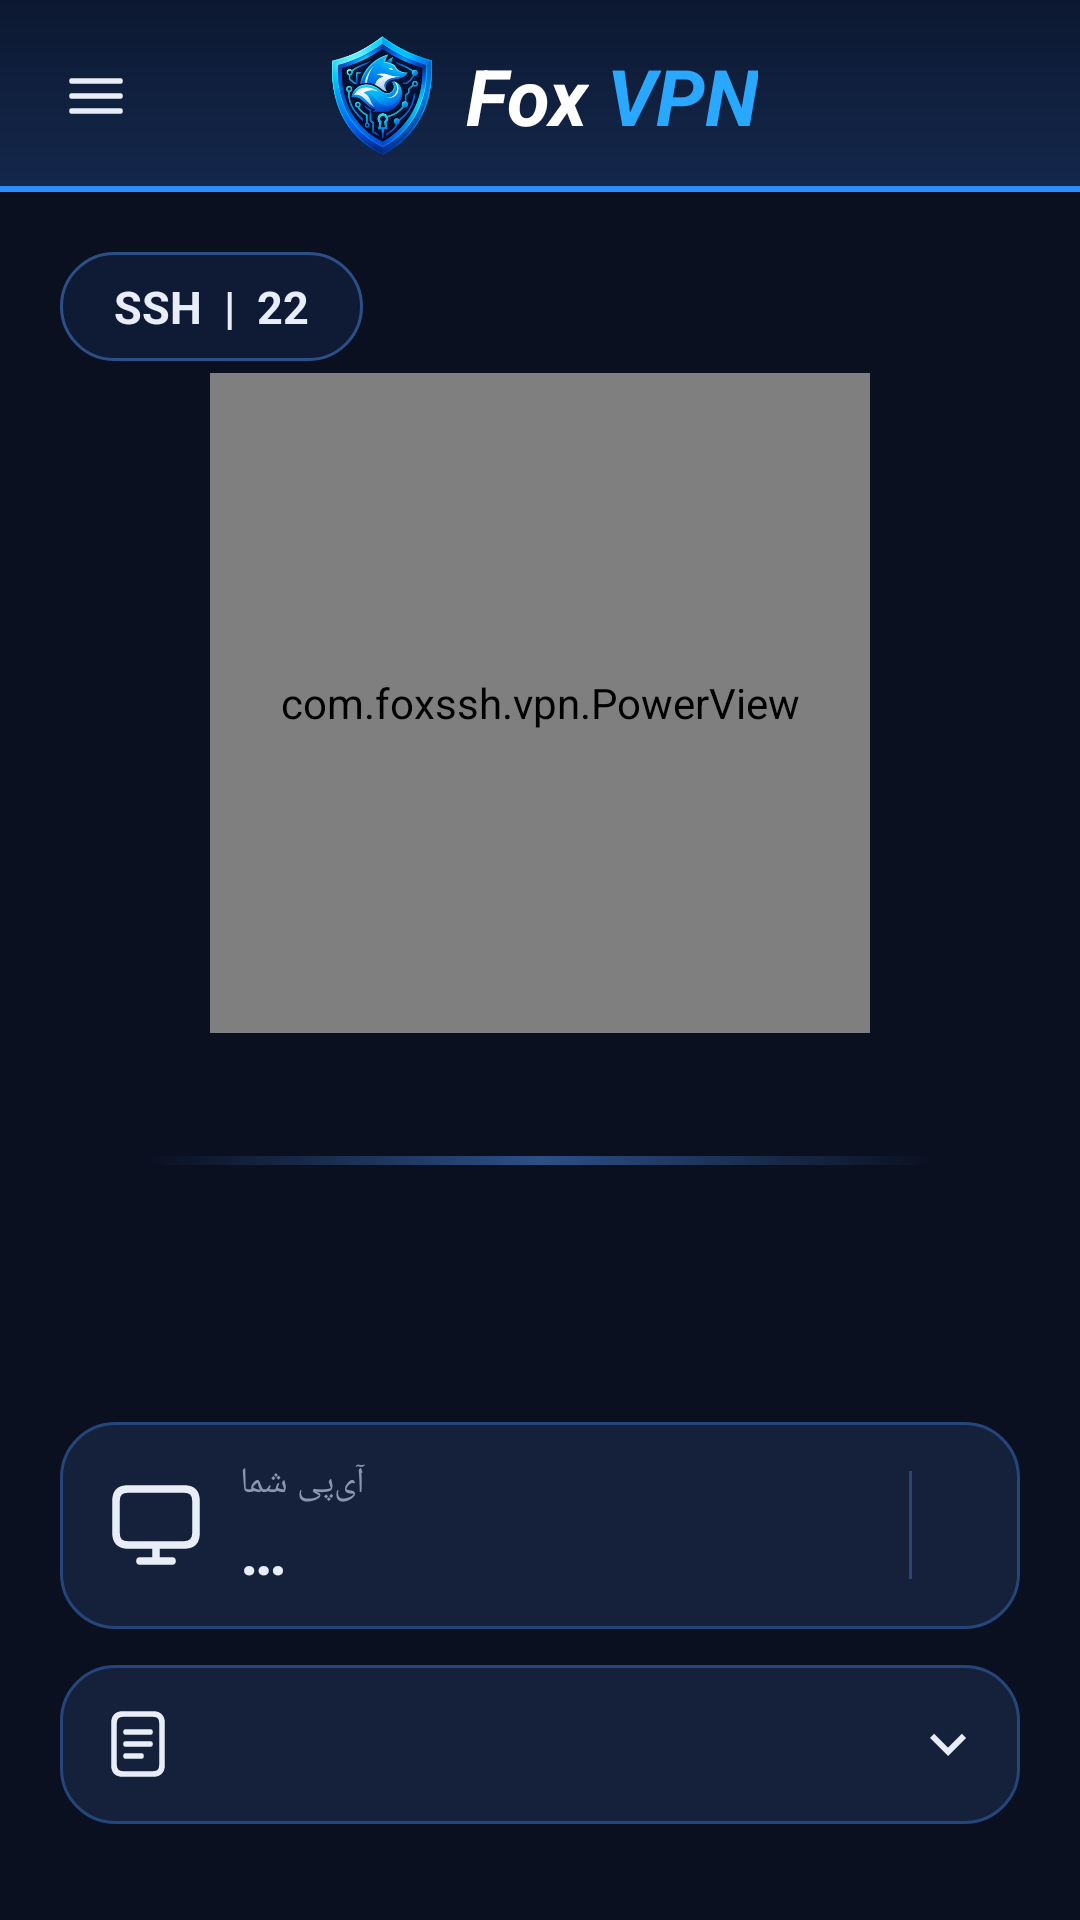

Where icons sit on this 1080px×1920px app screen, as (x1, y1, x2, y2):
chevron: (930, 1734, 966, 1756)
doc: (111, 1711, 165, 1777)
monitor: (112, 1485, 200, 1565)
